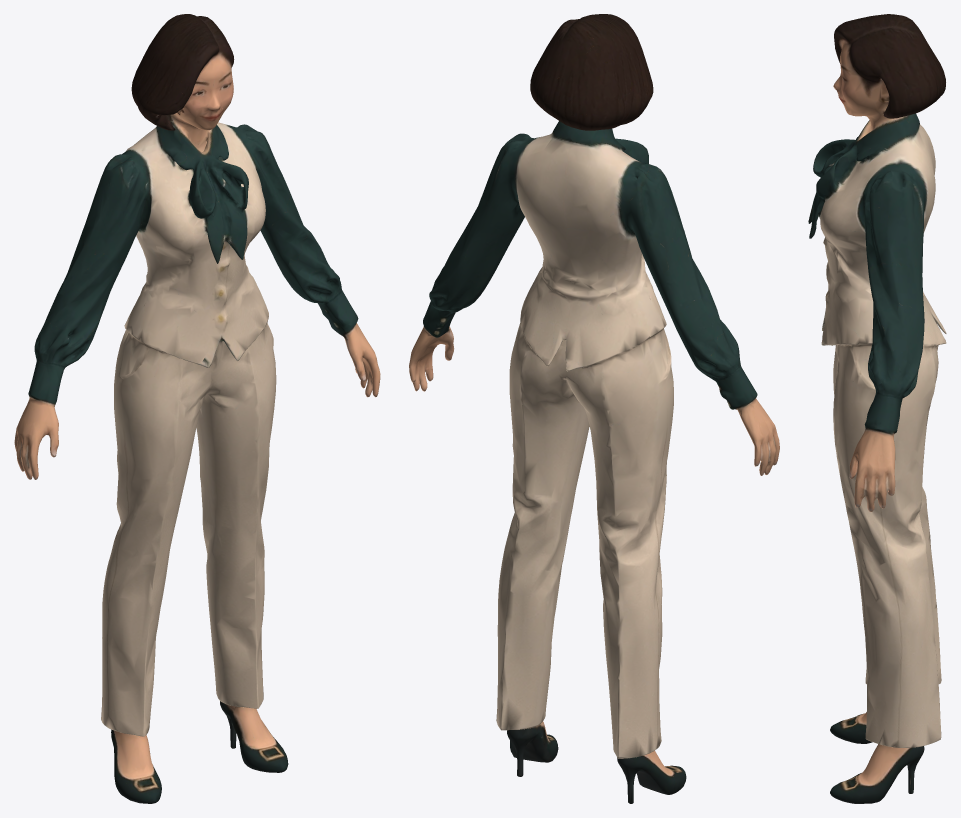
File: kavya-v1.glb
3 renders of one model, left to right at view 1: azimuth 30°, elevation 25°; view 2: azimuth 150°, elevation 25°; view 3: azimuth 270°, elevation 25°, orthographic.
Size of the model in its own units: 0.9375 by 1.9 by 0.3166.
1 material, 1 textured.
